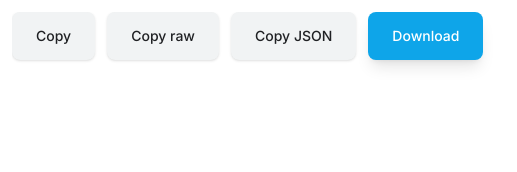
Test: CopyExportBar › copies text, raw and JSON and shows feedback
Click the button with aria-label "copy result" at coordinates (54, 36), box top-left (12, 12), bottom-right (95, 60)
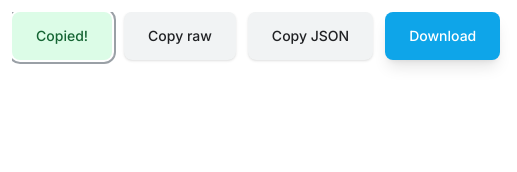
Expected: the button with aria-label "copy result" reads "Copied!", top-left (12, 12), bottom-right (112, 60)
Click the button with aria-label "copy raw result" at coordinates (180, 36), box top-left (124, 12), bottom-right (236, 60)
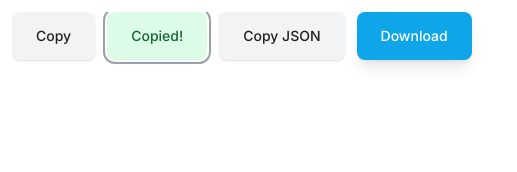
Expected: the button with aria-label "copy raw result" reads "Copied!", top-left (107, 12), bottom-right (207, 60)
Click the button with aria-label "copy json result" at coordinates (282, 36), box top-left (219, 12), bottom-right (344, 60)
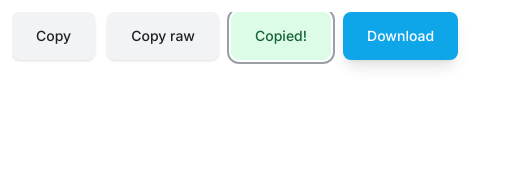
Expected: the button with aria-label "copy json result" reads "Copied!", top-left (231, 12), bottom-right (331, 60)
